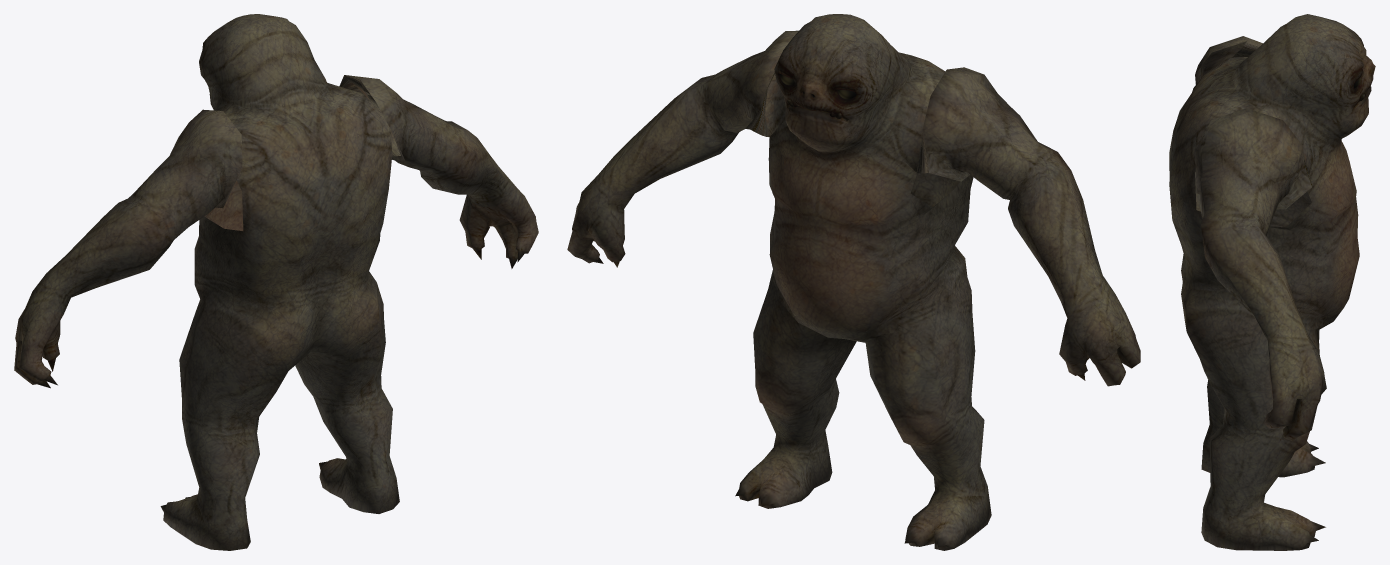
Rendered from character_base_preview.glb.
The picture shows the model from 3 angles, left to right: view 1: azimuth 30°, elevation 25°; view 2: azimuth 150°, elevation 25°; view 3: azimuth 270°, elevation 25°; orthographic projection. The views are drawn at different scales.
Visible parts, largest first — view 1: ATLAS_PROCEDURAL_BODY_V1; view 2: ATLAS_PROCEDURAL_BODY_V1; view 3: ATLAS_PROCEDURAL_BODY_V1.
Boxes of the visible parts, x1,y1,x2,y2 form: ATLAS_PROCEDURAL_BODY_V1: (14,14,538,550); ATLAS_PROCEDURAL_BODY_V1: (567,14,1140,550); ATLAS_PROCEDURAL_BODY_V1: (1169,14,1375,550).
Bounding box in the file's own units: 2.55 × 2.2 × 0.8542.
1 material, 1 textured.
